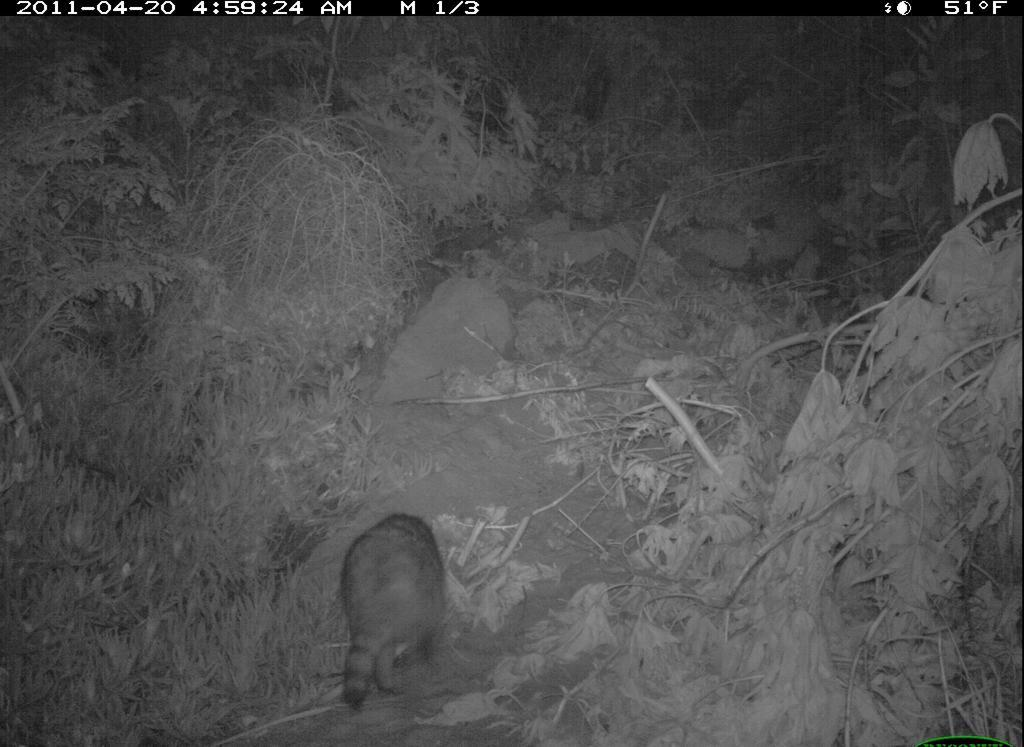raccoon: (327, 506, 452, 710)
